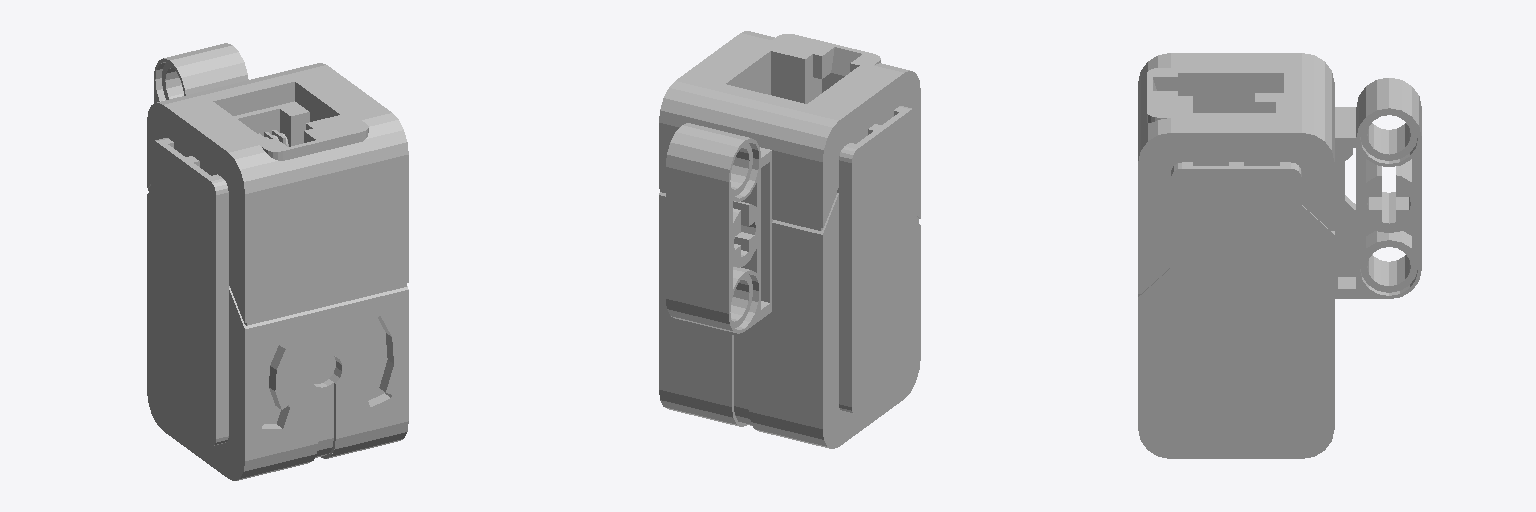
File: ev3 gyro sensor.obj
The picture shows the model from 3 angles: view 1: azimuth 30°, elevation 25°; view 2: azimuth 150°, elevation 25°; view 3: azimuth 270°, elevation 25°; orthographic projection.
Parts seen in each view (by area): view 1: Piece000; view 2: Piece000; view 3: Piece000.
Boxes of the visible parts, x1=… form: Piece000: x1=147, y1=43, x2=408, y2=480; Piece000: x1=659, y1=31, x2=920, y2=448; Piece000: x1=1138, y1=53, x2=1421, y2=458.
Bounding box in the file's own units: 60 × 99 × 78.